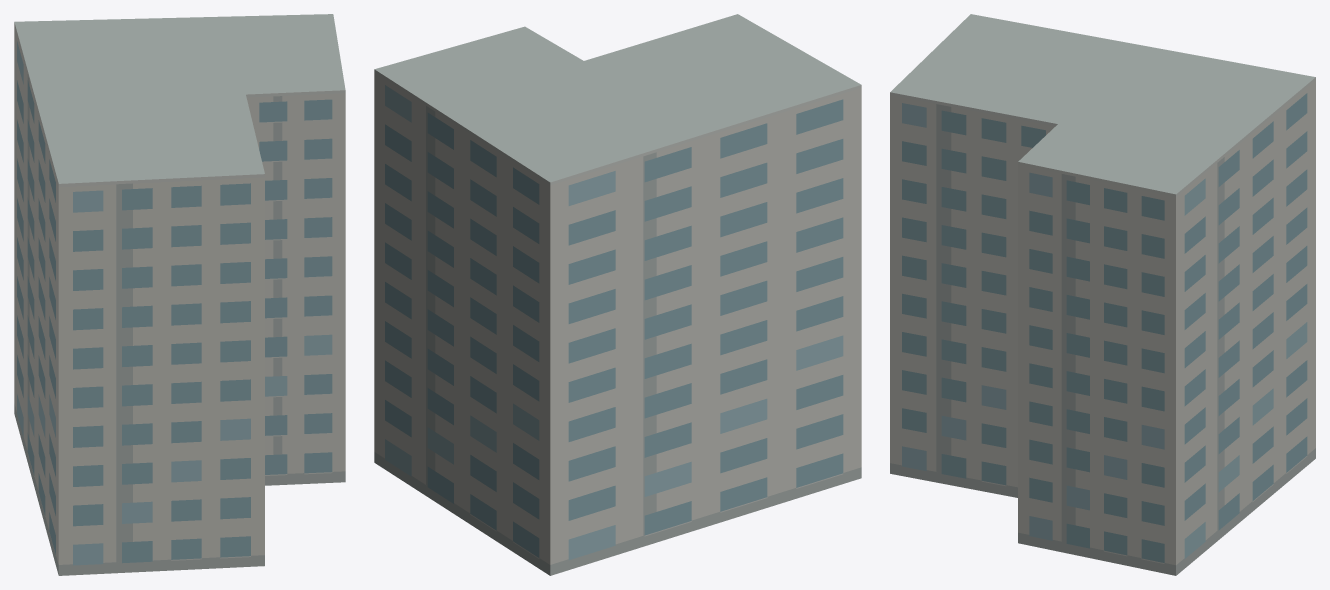
The model's file is residential-b816447f-3d80-41f4-a7bc-5c2359a9f0ee.glb.
The picture shows the model from 3 angles, left to right: view 1: azimuth 30°, elevation 25°; view 2: azimuth 150°, elevation 25°; view 3: azimuth 270°, elevation 25°; orthographic projection. The views are drawn at different scales.
Visible parts, largest first — view 1: residential-b816447f-3d80-41f4-a7bc-5c2359a9f0ee.tmp; view 2: residential-b816447f-3d80-41f4-a7bc-5c2359a9f0ee.tmp; view 3: residential-b816447f-3d80-41f4-a7bc-5c2359a9f0ee.tmp.
Boxes of the visible parts, x1,y1,x2,y2 form: residential-b816447f-3d80-41f4-a7bc-5c2359a9f0ee.tmp: [14, 14, 345, 575]; residential-b816447f-3d80-41f4-a7bc-5c2359a9f0ee.tmp: [374, 14, 861, 575]; residential-b816447f-3d80-41f4-a7bc-5c2359a9f0ee.tmp: [890, 14, 1315, 575].
Bounding box in the file's own units: 31.46 × 31 × 31.37.
